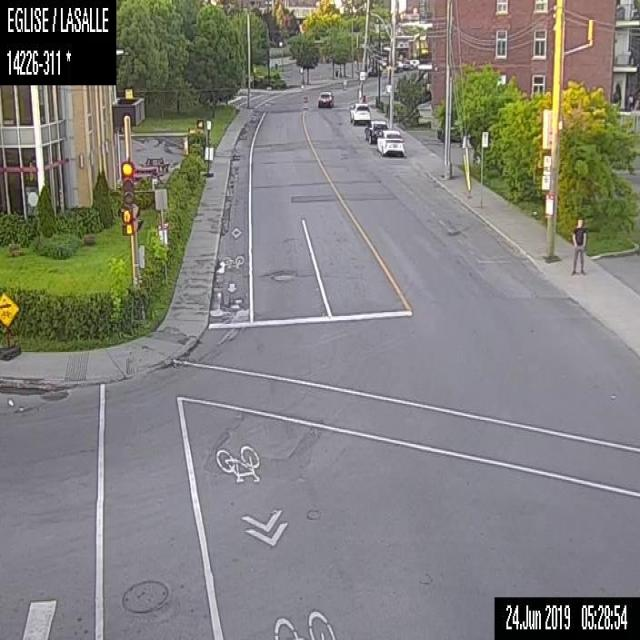pedestrian: (569, 216, 586, 276)
vehicle: (376, 128, 406, 156), (362, 117, 386, 143), (349, 101, 372, 123), (316, 90, 334, 110)
